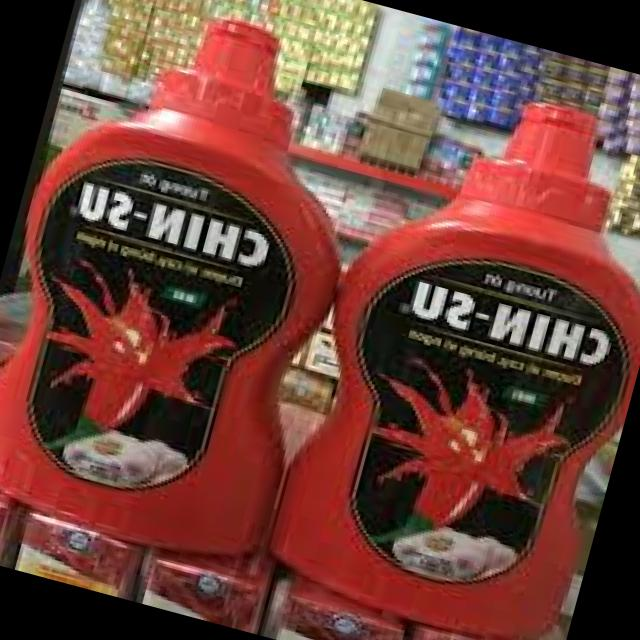tuong ot chinsu: (0, 0, 401, 577), (259, 61, 640, 640)
